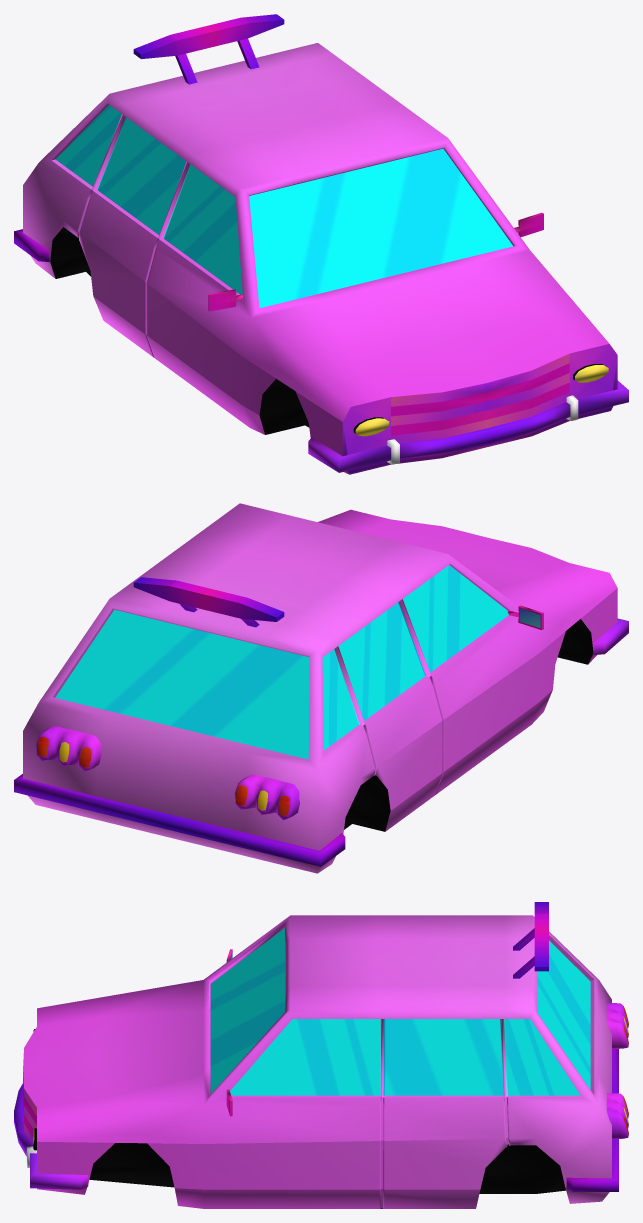
File: Car_8.fbx
3 views of the same model, one above another, from view 1: azimuth 30°, elevation 25°; view 2: azimuth 150°, elevation 25°; view 3: azimuth 270°, elevation 25° (orthographic). The views are drawn at different scales.
Visible parts, largest first — view 1: Car_8; view 2: Car_8; view 3: Car_8.
Boxes of the visible parts, <box> form: Car_8: <box>14,14,628,474</box>; Car_8: <box>14,503,628,873</box>; Car_8: <box>14,902,628,1208</box>.
Bounding box in the file's own units: 249 × 164 × 425.
Materials: 2 (2 with a texture image).
